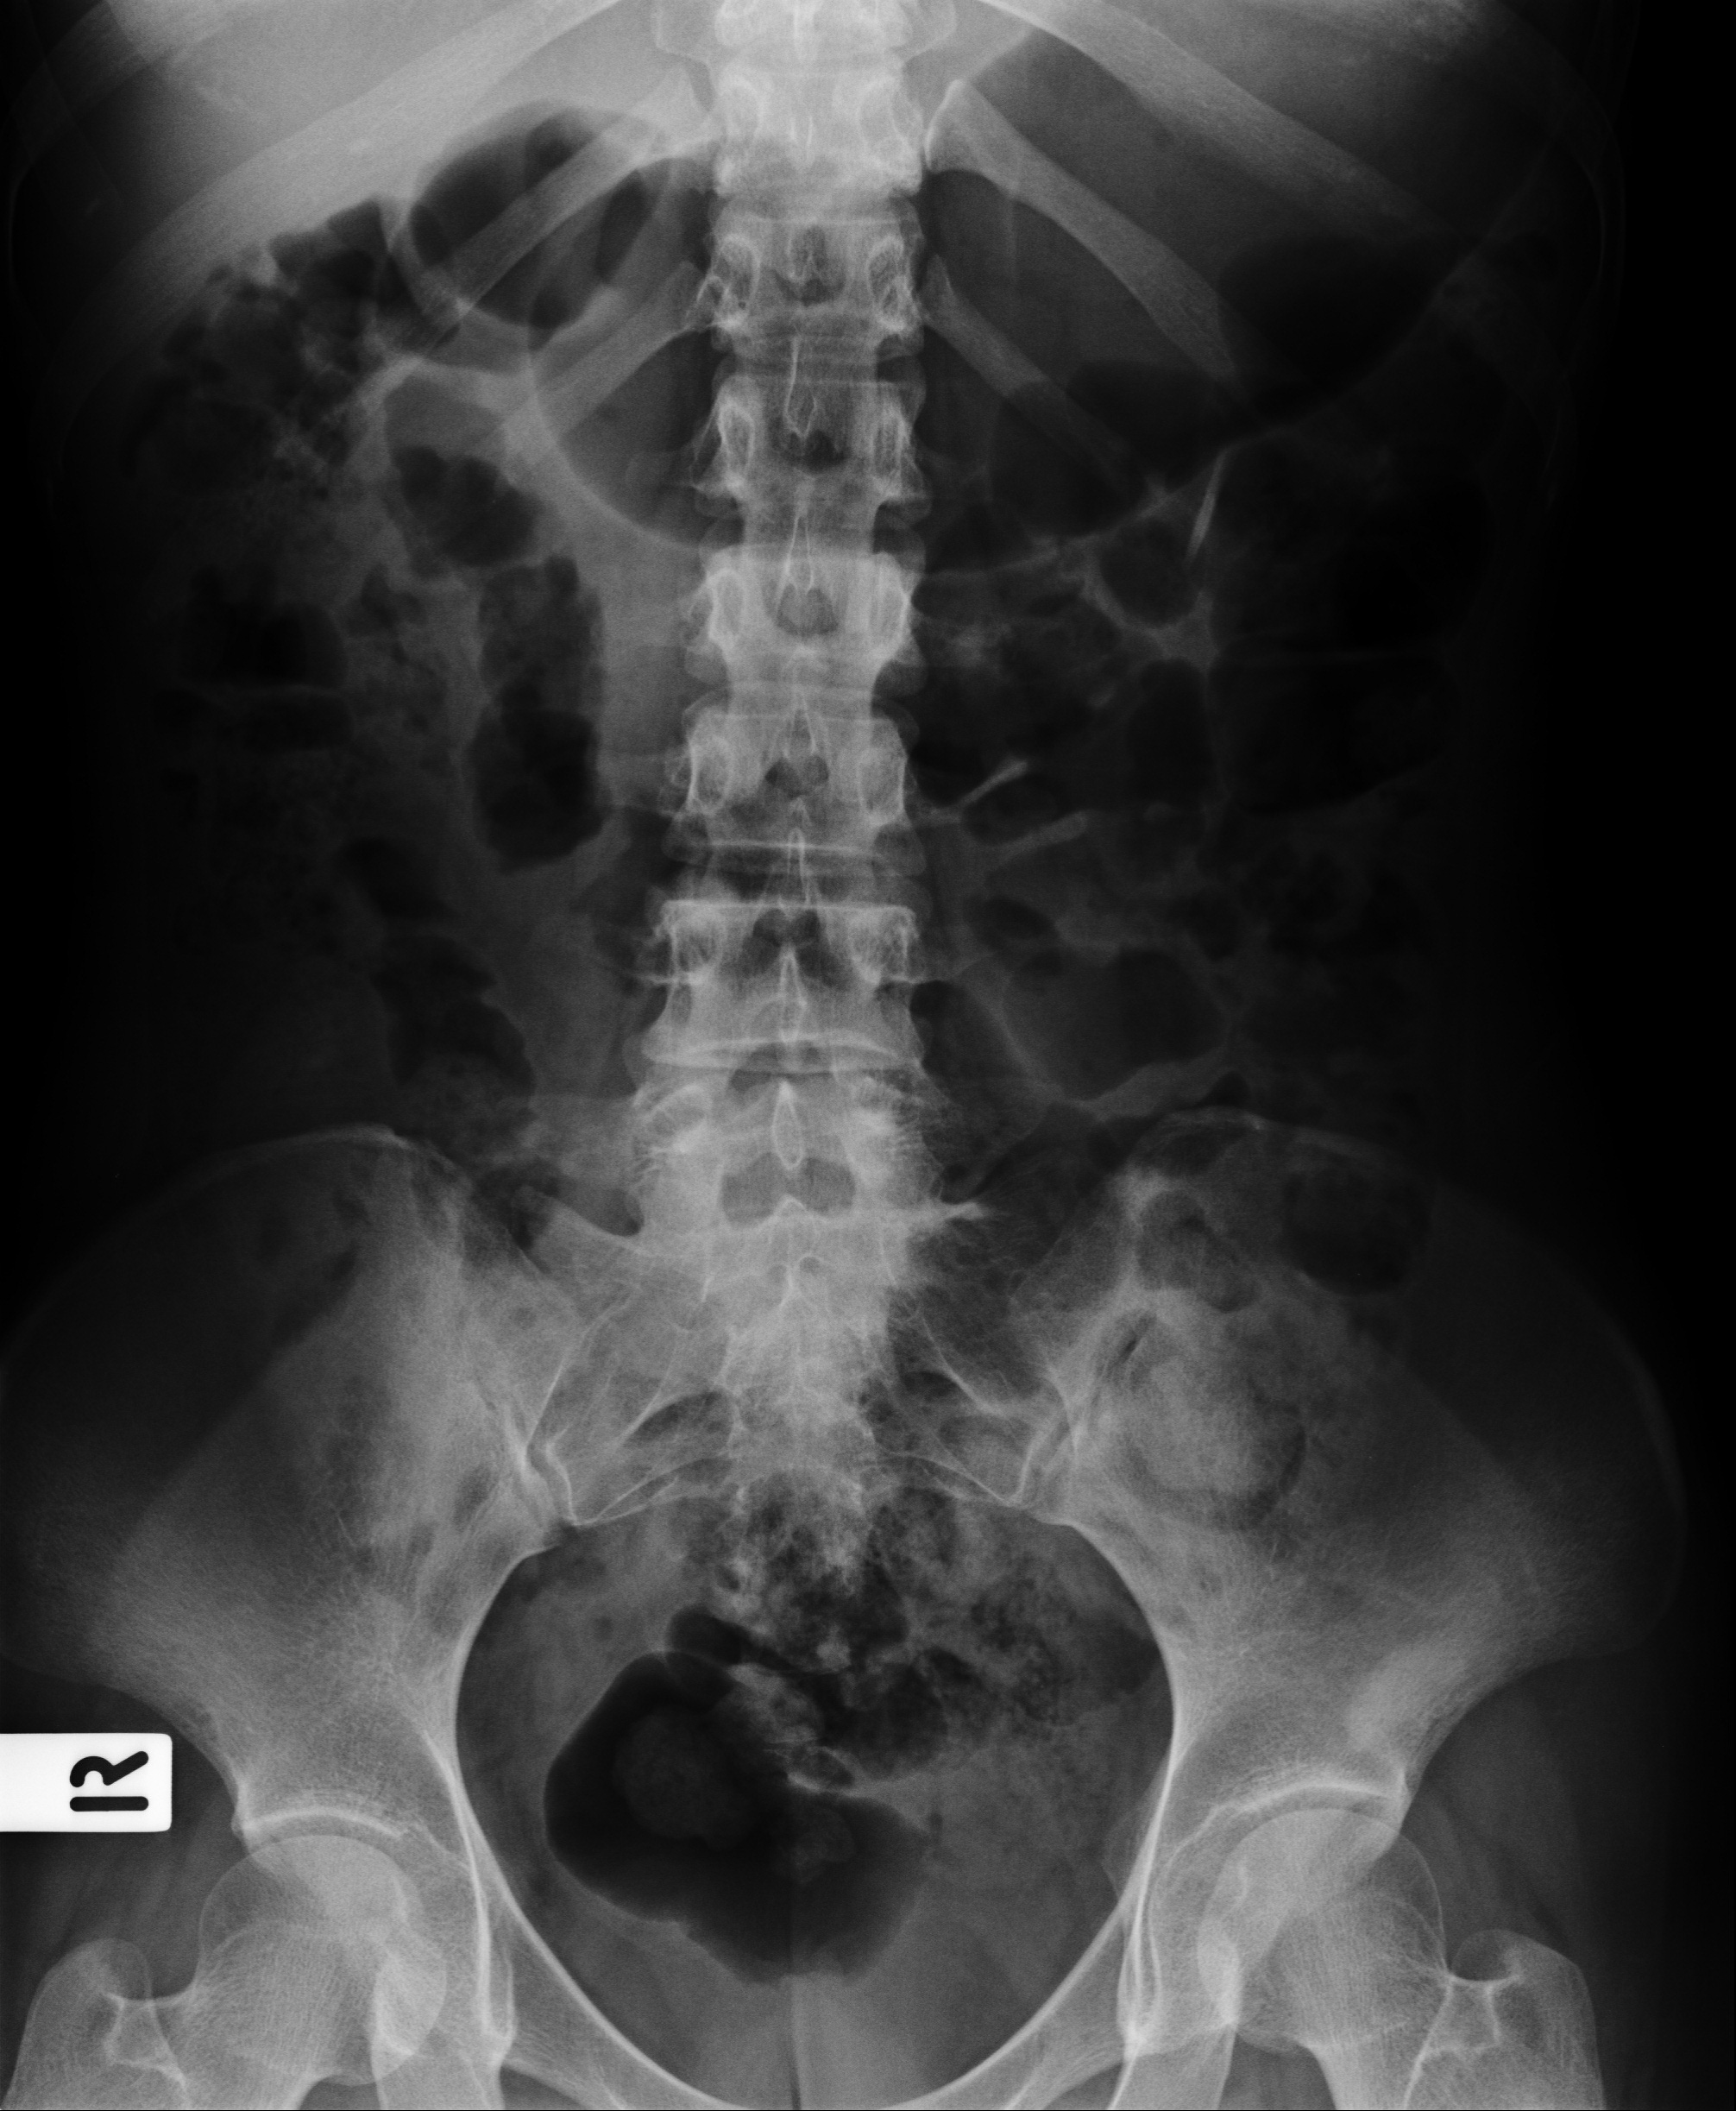lumbar scoliosis: (635, 26, 938, 1317)
